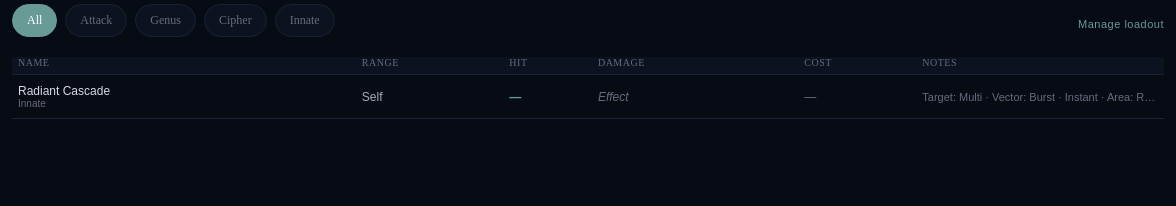
Test: an innate the sheet could not read, whose page names a roll anyway › oriyu/Radiant — Radiant Cascade is never captioned as stating no roll
Click the button with class "act-row". click: x=64, y=91
box: [12,75,1164,118]
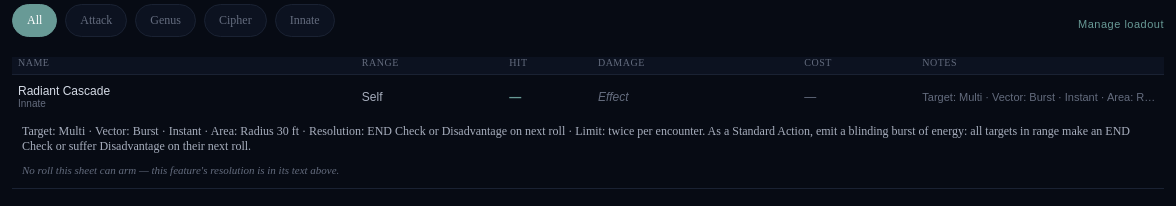
Expected: the text with class "act-sub" reads "Innate", [18,98,46,109]
Expected: the text with class "act-passive" reads "No roll this sheet can arm — this feature's resolution is in its text above.", [22,164,339,176]
